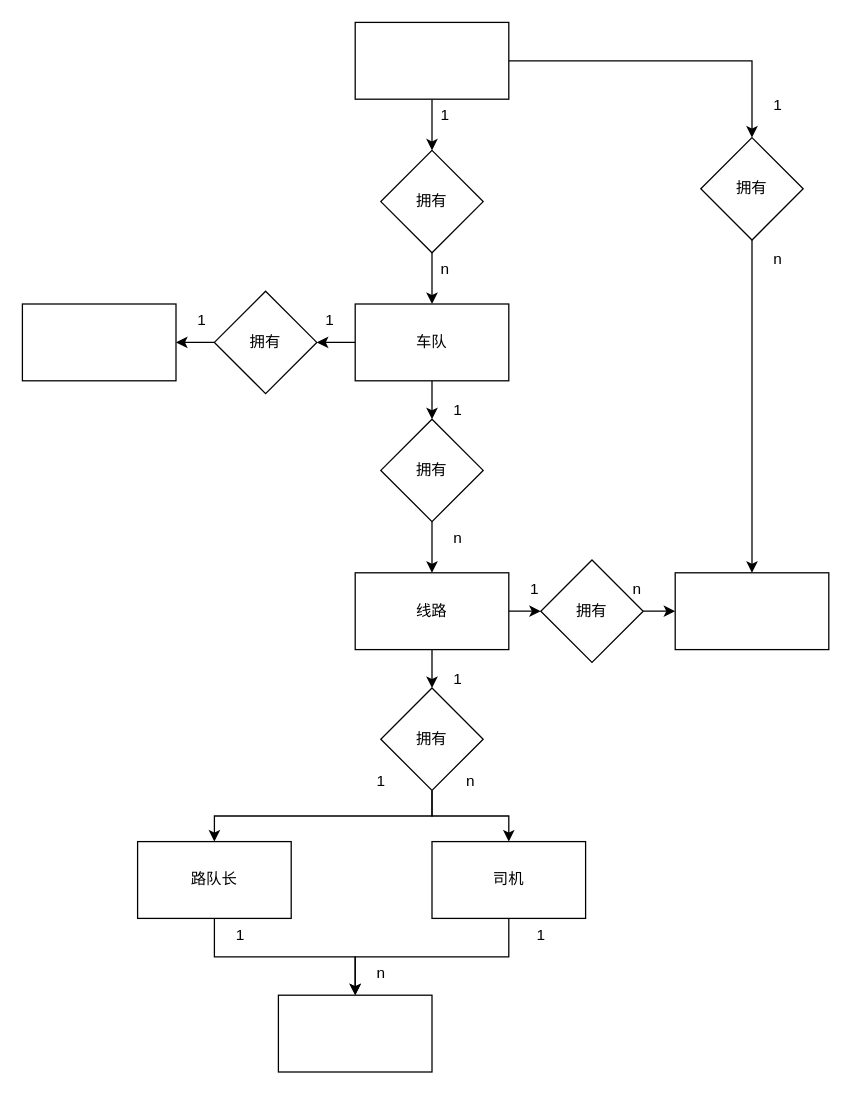
Image size: 851x1094. Some labels were removed from this diagram. The centre of each missing label's shape, as x and y in pixels:
"公交公司" belongs at (x=431, y=60).
"车辆" belongs at (x=751, y=611).
"违章" belongs at (x=354, y=1033).
"队长" belongs at (x=98, y=342).
